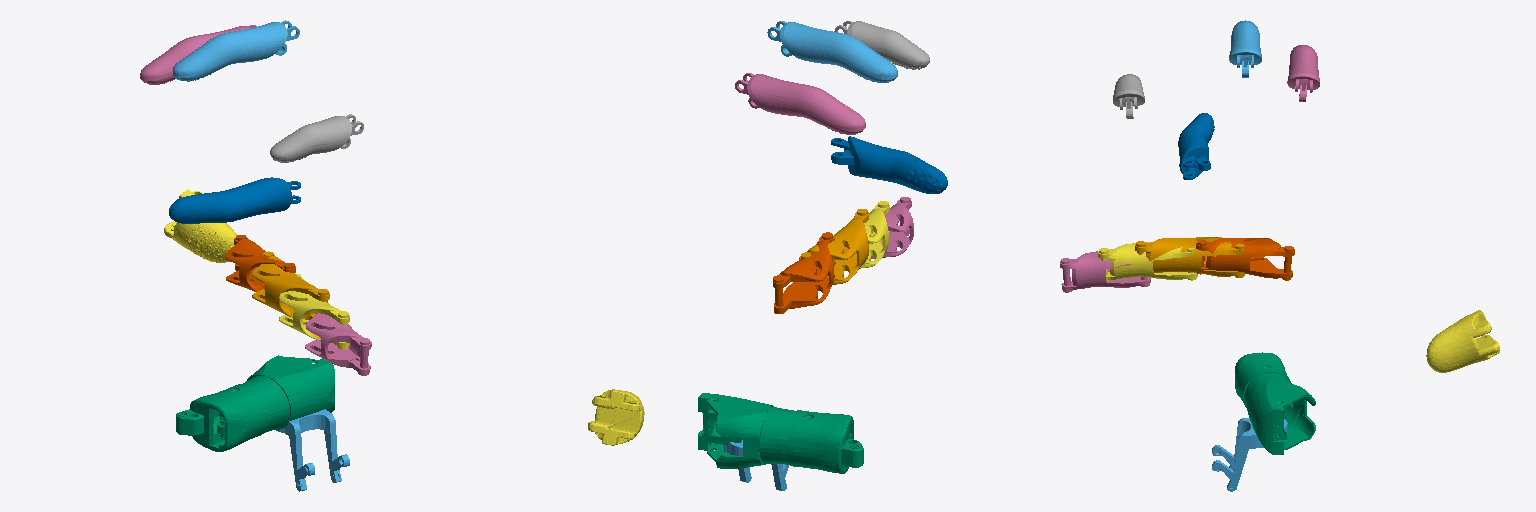
URDF robot description (RuiYan_Hand_Right_Mimic):
<?xml version="1.0" encoding="UTF-8"?>
<!-- Version: 3.0 -->
<robot name="RuiYan_Hand_Right_Mimic">
  <joint name="hand2_joint_link_1_1" type="revolute">
    <origin xyz="0.0135 0.022 0.0398" rpy="3.1415927 0. -1.5707927"/>
    <parent link="hand2_link_base"/>
    <child link="hand2_link_1_1"/>
    <axis xyz="0. 0. 1."/>
    <limit lower="0." upper="2.3559998" effort="340282346638528859811704183484516925440." velocity="5939047335254987724700441203225657344."/>
  </joint>
  <joint name="hand2_joint_link_1_2" type="revolute">
    <origin xyz="-0.0105 -0. -0.0107" rpy="-1.5707927 0. -3.1415925"/>
    <parent link="hand2_link_1_1"/>
    <child link="hand2_link_1_2"/>
    <axis xyz="0. 0. 1."/>
    <limit lower="0." upper="0.698" effort="340282346638528859811704183484516925440." velocity="5939047335254987724700441203225657344."/>
  </joint>
  <joint name="hand2_joint_link_1_3" type="revolute">
    <origin xyz="0.040457 0.011223 -0. " rpy="-0. 0. -0.0000001"/>
    <parent link="hand2_link_1_2"/>
    <child link="hand2_link_1_3"/>
    <axis xyz="0. 0. 1."/>
    <limit lower="0." upper="1.169" effort="340282346638528859811704183484516925440." velocity="5939047335254987724700441203225657344."/>
    <mimic joint="hand2_joint_link_1_2" multiplier="1.6749999523162842" offset="0.0" />
  </joint>
  <joint name="hand2_joint_link_1_4" type="fixed">
    <origin xyz="0.0289525 0.028477 0. " rpy="2.3561945 -1.5707911 2.3561945"/>
    <parent link="hand2_link_1_3"/>
    <child link="hand2_link_1_4"/>
  </joint>
  <joint name="hand2_joint_link_2_1" type="revolute">
    <origin xyz="-0.0035 0.029833 0.11095 " rpy="-3.1415923 1.4923 -1.5707922"/>
    <parent link="hand2_link_base"/>
    <child link="hand2_link_2_1"/>
    <axis xyz="0. 0. 1."/>
    <limit lower="0." upper="1.518" effort="340282346638528859811704183484516925440." velocity="5939047335254987724700441203225657344."/>
  </joint>
  <joint name="hand2_joint_link_2_2" type="revolute">
    <origin xyz="-0.0419 0.001 0. " rpy="0. 0. 0."/>
    <parent link="hand2_link_2_1"/>
    <child link="hand2_link_2_2"/>
    <axis xyz="0. 0. 1."/>
    <limit lower="0." upper="1.6229999" effort="340282346638528859811704183484516925440." velocity="5939047335254987724700441203225657344."/>
    <mimic joint="hand2_joint_link_2_1" multiplier="1.0" offset="0.0" />
  </joint>
  <joint name="hand2_joint_link_2_3" type="fixed">
    <origin xyz="-0.0416063 -0.0157651 0.0000874" rpy="1.6492926 0.0000036 -1.570796 "/>
    <parent link="hand2_link_2_2"/>
    <child link="hand2_link_2_3"/>
  </joint>
  <joint name="hand2_joint_link_3_1" type="revolute">
    <origin xyz="-0.0035 0.009945 0.112 " rpy="-3.1415923 1.5446 -1.5707922"/>
    <parent link="hand2_link_base"/>
    <child link="hand2_link_3_1"/>
    <axis xyz="0. 0. 1."/>
    <limit lower="0." upper="1.5709999" effort="340282346638528859811704183484516925440." velocity="5939047335254987724700441203225657344."/>
  </joint>
  <joint name="hand2_joint_link_3_2" type="revolute">
    <origin xyz="-0.0519 0.001 0. " rpy="0. 0. 0."/>
    <parent link="hand2_link_3_1"/>
    <child link="hand2_link_3_2"/>
    <axis xyz="0. 0. 1."/>
    <limit lower="0." upper="1.6409999" effort="340282346638528859811704183484516925440." velocity="5939047335254987724700441203225657344."/>
    <mimic joint="hand2_joint_link_3_1" multiplier="1.0" offset="0.0" />
  </joint>
  <joint name="hand2_joint_link_3_3" type="fixed">
    <origin xyz="-0.0426192 -0.015904 0.0000652" rpy="1.5969926 0.0000036 -1.5707963"/>
    <parent link="hand2_link_3_2"/>
    <child link="hand2_link_3_3"/>
  </joint>
  <joint name="hand2_joint_link_4_1" type="revolute">
    <origin xyz="-0.0035 -0.009945 0.11099 " rpy="-0.0000086 1.5446 1.5707914"/>
    <parent link="hand2_link_base"/>
    <child link="hand2_link_4_1"/>
    <axis xyz="0. 0. 1."/>
    <limit lower="0." upper="1.5709999" effort="340282346638528859811704183484516925440." velocity="5939047335254987724700441203225657344."/>
  </joint>
  <joint name="hand2_joint_link_4_2" type="revolute">
    <origin xyz="-0.0419 0.001 0. " rpy="0. 0. 0."/>
    <parent link="hand2_link_4_1"/>
    <child link="hand2_link_4_2"/>
    <axis xyz="0. 0. 1."/>
    <limit lower="0." upper="1.6579999" effort="340282346638528859811704183484516925440." velocity="5939047335254987724700441203225657344."/>
    <mimic joint="hand2_joint_link_4_1" multiplier="1.0" offset="0.0" />
  </joint>
  <joint name="hand2_joint_link_4_3" type="fixed">
    <origin xyz="-0.0437206 -0.0156348 0.0001176" rpy="1.5446 0.0000036 -1.5707963"/>
    <parent link="hand2_link_4_2"/>
    <child link="hand2_link_4_3"/>
  </joint>
  <joint name="hand2_joint_link_5_1" type="revolute">
    <origin xyz="-0.0035 -0.029624 0.10795 " rpy="-0.0000079 1.4923 1.5707921"/>
    <parent link="hand2_link_base"/>
    <child link="hand2_link_5_1"/>
    <axis xyz="0. 0. 1."/>
    <limit lower="0." upper="1.5449999" effort="340282346638528859811704183484516925440." velocity="5939047335254987724700441203225657344."/>
  </joint>
  <joint name="hand2_joint_link_5_2" type="revolute">
    <origin xyz="-0.0369 0.001 0. " rpy="0. 0. 0."/>
    <parent link="hand2_link_5_1"/>
    <child link="hand2_link_5_2"/>
    <axis xyz="0. 0. 1."/>
    <limit lower="0." upper="1.6579999" effort="340282346638528859811704183484516925440." velocity="5939047335254987724700441203225657344."/>
    <mimic joint="hand2_joint_link_5_1" multiplier="1.0" offset="0.0" />
  </joint>
  <joint name="hand2_joint_link_5_3" type="fixed">
    <origin xyz="-0.0404732 -0.0155 0.0003224" rpy="1.4923002 0.0000036 -1.570796 "/>
    <parent link="hand2_link_5_2"/>
    <child link="hand2_link_5_3"/>
  </joint>
  <joint name="hand2_root_joint" type="fixed">
    <origin xyz="0. 0. 0." rpy="0. 0. 0."/>
    <parent link="RuiYan_Hand_Right"/>
    <child link="hand2_link_base"/>
  </joint>
  <link name="RuiYan_Hand_Right"/>
  <link name="hand2_link_1_1">
    <inertial>
      <origin xyz="0. 0. 0." rpy="0. 0. 0."/>
      <mass value="0.0122865"/>
      <inertia ixx="0.001" ixy="0." ixz="0." iyy="0.001" iyz="0." izz="0.001"/>
    </inertial>
    <visual>
      <origin xyz="0. 0. 0." rpy="3.1415927 0. -3.1415925"/>
      <geometry>
        <mesh filename="meshes/hand2_link_1_1_visuals.obj" scale="1. 1. 1."/>
      </geometry>
    </visual>
    <collision>
      <origin xyz="0. 0. 0." rpy="3.1415927 0. -3.1415925"/>
      <geometry>
        <mesh filename="meshes/hand2_link_1_1_collisions.obj" scale="1. 1. 1."/>
      </geometry>
    </collision>
  </link>
  <link name="hand2_link_1_2">
    <inertial>
      <origin xyz="0. 0. 0." rpy="0. 0. 0."/>
      <mass value="0.0125498"/>
      <inertia ixx="0.001" ixy="0." ixz="0." iyy="0.001" iyz="0." izz="0.001"/>
    </inertial>
    <visual>
      <origin xyz="-0. 0. 0." rpy="-0. 0. -0.0000001"/>
      <geometry>
        <mesh filename="meshes/hand2_link_1_2_visuals.obj" scale="1. 1. 1."/>
      </geometry>
    </visual>
    <collision>
      <origin xyz="-0. 0. 0." rpy="-0. 0. -0.0000001"/>
      <geometry>
        <mesh filename="meshes/hand2_link_1_2_collisions.obj" scale="1. 1. 1."/>
      </geometry>
    </collision>
  </link>
  <link name="hand2_link_1_3">
    <inertial>
      <origin xyz="0. 0. 0." rpy="0. 0. 0."/>
      <mass value="0.0076685"/>
      <inertia ixx="0.001" ixy="0." ixz="0." iyy="0.001" iyz="0." izz="0.001"/>
    </inertial>
    <visual>
      <origin xyz="0.036284 0.0268 0. " rpy="2.7547064 1.5707927 3.1230462"/>
      <geometry>
        <mesh filename="meshes/hand2_link_1_3_visuals.obj" scale="1. 1. 1."/>
      </geometry>
    </visual>
    <collision>
      <origin xyz="0.036284 0.0268 0. " rpy="2.7547064 1.5707927 3.1230462"/>
      <geometry>
        <mesh filename="meshes/hand2_link_1_3_collisions.obj" scale="1. 1. 1."/>
      </geometry>
    </collision>
  </link>
  <link name="hand2_link_1_4">
    <visual>
      <origin xyz="0. 0. 0." rpy="-0. 0. 0."/>
      <geometry>
        <mesh filename="meshes/hand2_link_1_4_visuals.obj" scale="1. 1. 1."/>
      </geometry>
    </visual>
    <collision>
      <origin xyz="0. 0. 0." rpy="-0. 0. 0."/>
      <geometry>
        <mesh filename="meshes/hand2_link_1_4_collisions.obj" scale="1. 1. 1."/>
      </geometry>
    </collision>
  </link>
  <link name="hand2_link_2_1">
    <inertial>
      <origin xyz="0. 0. 0." rpy="0. 0. 0."/>
      <mass value="0.0100639"/>
      <inertia ixx="0.001" ixy="0." ixz="0." iyy="0.001" iyz="0." izz="0.001"/>
    </inertial>
    <visual>
      <origin xyz="0. 0. 0." rpy="3.1415925 -0. -3.1415925"/>
      <geometry>
        <mesh filename="meshes/hand2_link_2_1_visuals.obj" scale="1. 1. 1."/>
      </geometry>
    </visual>
    <collision>
      <origin xyz="0. 0. 0." rpy="3.1415925 -0. -3.1415925"/>
      <geometry>
        <mesh filename="meshes/hand2_link_2_1_collisions.obj" scale="1. 1. 1."/>
      </geometry>
    </collision>
  </link>
  <link name="hand2_link_2_2">
    <inertial>
      <origin xyz="0. 0. 0." rpy="0. 0. 0."/>
      <mass value="0.0035861"/>
      <inertia ixx="0.001" ixy="0." ixz="0." iyy="0.001" iyz="0." izz="0.001"/>
    </inertial>
    <visual>
      <origin xyz="-0.043692 -0.011217 -0. " rpy="1.5707649 -1.5694997 -1.5872649"/>
      <geometry>
        <mesh filename="meshes/hand2_link_2_2_visuals.obj" scale="1. 1. 1."/>
      </geometry>
    </visual>
    <collision>
      <origin xyz="-0.043692 -0.011217 -0. " rpy="1.5707649 -1.5694997 -1.5872649"/>
      <geometry>
        <mesh filename="meshes/hand2_link_2_2_collisions.obj" scale="1. 1. 1."/>
      </geometry>
    </collision>
  </link>
  <link name="hand2_link_2_3">
    <visual>
      <origin xyz="-0. 0. -0." rpy="0. 0. -0."/>
      <geometry>
        <mesh filename="meshes/hand2_link_2_3_visuals.obj" scale="1. 1. 1."/>
      </geometry>
    </visual>
    <collision>
      <origin xyz="-0. 0. -0." rpy="0. 0. -0."/>
      <geometry>
        <mesh filename="meshes/hand2_link_2_3_collisions.obj" scale="1. 1. 1."/>
      </geometry>
    </collision>
  </link>
  <link name="hand2_link_3_1">
    <inertial>
      <origin xyz="0. 0. 0." rpy="0. 0. 0."/>
      <mass value="0.0082987"/>
      <inertia ixx="0.001" ixy="0." ixz="0." iyy="0.001" iyz="0." izz="0.001"/>
    </inertial>
    <visual>
      <origin xyz="0. 0. 0." rpy="3.1415927 -0. -3.1415927"/>
      <geometry>
        <mesh filename="meshes/hand2_link_3_1_visuals.obj" scale="1. 1. 1."/>
      </geometry>
    </visual>
    <collision>
      <origin xyz="0. 0. 0." rpy="3.1415927 -0. -3.1415927"/>
      <geometry>
        <mesh filename="meshes/hand2_link_3_1_collisions.obj" scale="1. 1. 1."/>
      </geometry>
    </collision>
  </link>
  <link name="hand2_link_3_2">
    <inertial>
      <origin xyz="0. 0. 0." rpy="0. 0. 0."/>
      <mass value="0.003586"/>
      <inertia ixx="0.001" ixy="0." ixz="0." iyy="0.001" iyz="0." izz="0.001"/>
    </inertial>
    <visual>
      <origin xyz="-0.043641 -0.01141 -0. " rpy="1.570527 -1.5704999 -1.582627 "/>
      <geometry>
        <mesh filename="meshes/hand2_link_3_2_visuals.obj" scale="1. 1. 1."/>
      </geometry>
    </visual>
    <collision>
      <origin xyz="-0.043641 -0.01141 -0. " rpy="1.570527 -1.5704999 -1.582627 "/>
      <geometry>
        <mesh filename="meshes/hand2_link_3_2_collisions.obj" scale="1. 1. 1."/>
      </geometry>
    </collision>
  </link>
  <link name="hand2_link_3_3">
    <visual>
      <origin xyz="0. 0. 0." rpy="0. 0. 0."/>
      <geometry>
        <mesh filename="meshes/hand2_link_3_3_visuals.obj" scale="1. 1. 1."/>
      </geometry>
    </visual>
    <collision>
      <origin xyz="0. 0. 0." rpy="0. 0. 0."/>
      <geometry>
        <mesh filename="meshes/hand2_link_3_3_collisions.obj" scale="1. 1. 1."/>
      </geometry>
    </collision>
  </link>
  <link name="hand2_link_4_1">
    <inertial>
      <origin xyz="0. 0. 0." rpy="0. 0. 0."/>
      <mass value="0.0100639"/>
      <inertia ixx="0.001" ixy="0." ixz="0." iyy="0.001" iyz="0." izz="0.001"/>
    </inertial>
    <visual>
      <origin xyz="0. 0. 0." rpy="3.1415927 -0. -3.1415927"/>
      <geometry>
        <mesh filename="meshes/hand2_link_4_1_visuals.obj" scale="1. 1. 1."/>
      </geometry>
    </visual>
    <collision>
      <origin xyz="0. 0. 0." rpy="3.1415927 -0. -3.1415927"/>
      <geometry>
        <mesh filename="meshes/hand2_link_4_1_collisions.obj" scale="1. 1. 1."/>
      </geometry>
    </collision>
  </link>
  <link name="hand2_link_4_2">
    <inertial>
      <origin xyz="0. 0. 0." rpy="0. 0. 0."/>
      <mass value="0.0035859"/>
      <inertia ixx="0.001" ixy="0." ixz="0." iyy="0.001" iyz="0." izz="0.001"/>
    </inertial>
    <visual>
      <origin xyz="-0. -0. -0." rpy="-3.1415927 0. 3.1415927"/>
      <geometry>
        <mesh filename="meshes/hand2_link_4_2_visuals.obj" scale="1. 1. 1."/>
      </geometry>
    </visual>
    <collision>
      <origin xyz="-0. -0. -0." rpy="-3.1415927 0. 3.1415927"/>
      <geometry>
        <mesh filename="meshes/hand2_link_4_2_collisions.obj" scale="1. 1. 1."/>
      </geometry>
    </collision>
  </link>
  <link name="hand2_link_4_3">
    <visual>
      <origin xyz="0. 0. 0." rpy="0. 0. 0."/>
      <geometry>
        <mesh filename="meshes/hand2_link_4_3_visuals.obj" scale="1. 1. 1."/>
      </geometry>
    </visual>
    <collision>
      <origin xyz="0. 0. 0." rpy="0. 0. 0."/>
      <geometry>
        <mesh filename="meshes/hand2_link_4_3_collisions.obj" scale="1. 1. 1."/>
      </geometry>
    </collision>
  </link>
  <link name="hand2_link_5_1">
    <inertial>
      <origin xyz="0. 0. 0." rpy="0. 0. 0."/>
      <mass value="0.0087057"/>
      <inertia ixx="0.001" ixy="0." ixz="0." iyy="0.001" iyz="0." izz="0.001"/>
    </inertial>
    <visual>
      <origin xyz="0. 0. 0." rpy="3.1415927 -0. -3.1415927"/>
      <geometry>
        <mesh filename="meshes/hand2_link_5_1_visuals.obj" scale="1. 1. 1."/>
      </geometry>
    </visual>
    <collision>
      <origin xyz="0. 0. 0." rpy="3.1415927 -0. -3.1415927"/>
      <geometry>
        <mesh filename="meshes/hand2_link_5_1_collisions.obj" scale="1. 1. 1."/>
      </geometry>
    </collision>
  </link>
  <link name="hand2_link_5_2">
    <inertial>
      <origin xyz="0. 0. 0." rpy="0. 0. 0."/>
      <mass value="0.0035859"/>
      <inertia ixx="0.001" ixy="0." ixz="0." iyy="0.001" iyz="0." izz="0.001"/>
    </inertial>
    <visual>
      <origin xyz="-0.043691 -0.011217 0. " rpy="-1.570798 -1.5695001 1.554298 "/>
      <geometry>
        <mesh filename="meshes/hand2_link_5_2_visuals.obj" scale="1. 1. 1."/>
      </geometry>
    </visual>
    <collision>
      <origin xyz="-0.043691 -0.011217 0. " rpy="-1.570798 -1.5695001 1.554298 "/>
      <geometry>
        <mesh filename="meshes/hand2_link_5_2_collisions.obj" scale="1. 1. 1."/>
      </geometry>
    </collision>
  </link>
  <link name="hand2_link_5_3">
    <visual>
      <origin xyz="0. -0. -0." rpy="-0.0000001 0. -0. "/>
      <geometry>
        <mesh filename="meshes/hand2_link_5_3_visuals.obj" scale="1. 1. 1."/>
      </geometry>
    </visual>
    <collision>
      <origin xyz="0. -0. -0." rpy="-0.0000001 0. -0. "/>
      <geometry>
        <mesh filename="meshes/hand2_link_5_3_collisions.obj" scale="1. 1. 1."/>
      </geometry>
    </collision>
  </link>
  <link name="hand2_link_base">
    <inertial>
      <origin xyz="0. 0. 0." rpy="0. 0. 0."/>
      <mass value="0.2115691"/>
      <inertia ixx="0.001" ixy="0." ixz="0." iyy="0.001" iyz="0." izz="0.001"/>
    </inertial>
    <visual>
      <origin xyz="0. 0. 0." rpy="0. 0. 0."/>
      <geometry>
        <mesh filename="meshes/hand2_link_base_visuals.obj" scale="1. 1. 1."/>
      </geometry>
    </visual>
    <collision>
      <origin xyz="0. 0. 0." rpy="0. 0. 0."/>
      <geometry>
        <mesh filename="meshes/hand2_link_base_collisions.obj" scale="1. 1. 1."/>
      </geometry>
    </collision>
  </link>
</robot>

--- Render facts (derived) ---
The picture shows the robot from 3 angles, left to right: view 1: azimuth 30°, elevation 25°; view 2: azimuth 150°, elevation 25°; view 3: azimuth 270°, elevation 25°; orthographic projection.
Robot: RuiYan_Hand_Right_Mimic — 18 links, 17 joints (11 revolute, 6 fixed); root link RuiYan_Hand_Right; default pose: every joint at zero.
Visible links, largest first — view 1: hand2_link_1_2, hand2_link_4_2, hand2_link_3_2, hand2_link_5_2, hand2_link_5_1, hand2_link_1_1, hand2_link_1_3, hand2_link_3_1, hand2_link_2_1, hand2_link_4_1, hand2_link_2_2; view 2: hand2_link_1_2, hand2_link_2_2, hand2_link_3_2, hand2_link_4_2, hand2_link_2_1, hand2_link_1_3, hand2_link_5_2, hand2_link_3_1, hand2_link_5_1, hand2_link_4_1, hand2_link_1_1; view 3: hand2_link_1_2, hand2_link_1_3, hand2_link_2_1, hand2_link_3_1, hand2_link_4_1, hand2_link_5_1, hand2_link_4_2, hand2_link_1_1, hand2_link_2_2, hand2_link_3_2, hand2_link_5_2.
Boxes of the visible links, bbox=[...] form: hand2_link_1_2: bbox=[176, 355, 334, 451]; hand2_link_4_2: bbox=[169, 177, 300, 223]; hand2_link_3_2: bbox=[173, 20, 299, 81]; hand2_link_5_2: bbox=[270, 114, 363, 162]; hand2_link_5_1: bbox=[305, 313, 371, 375]; hand2_link_1_1: bbox=[276, 409, 349, 491]; hand2_link_1_3: bbox=[164, 189, 236, 262]; hand2_link_3_1: bbox=[252, 251, 329, 319]; hand2_link_2_1: bbox=[225, 235, 295, 291]; hand2_link_4_1: bbox=[279, 274, 349, 349]; hand2_link_2_2: bbox=[140, 25, 256, 84]; hand2_link_1_2: bbox=[698, 393, 863, 473]; hand2_link_2_2: bbox=[735, 73, 865, 134]; hand2_link_3_2: bbox=[767, 21, 897, 82]; hand2_link_4_2: bbox=[831, 136, 947, 193]; hand2_link_2_1: bbox=[773, 232, 835, 313]; hand2_link_1_3: bbox=[588, 389, 644, 445]; hand2_link_5_2: bbox=[834, 21, 929, 69]; hand2_link_3_1: bbox=[799, 209, 868, 284]; hand2_link_5_1: bbox=[871, 197, 913, 258]; hand2_link_4_1: bbox=[833, 201, 889, 268]; hand2_link_1_1: bbox=[724, 440, 788, 490]; hand2_link_1_2: bbox=[1235, 352, 1315, 454]; hand2_link_1_3: bbox=[1426, 310, 1499, 372]; hand2_link_2_1: bbox=[1196, 238, 1294, 280]; hand2_link_3_1: bbox=[1135, 237, 1244, 277]; hand2_link_4_1: bbox=[1098, 242, 1197, 281]; hand2_link_5_1: bbox=[1060, 251, 1150, 292]; hand2_link_4_2: bbox=[1178, 113, 1214, 179]; hand2_link_1_1: bbox=[1212, 418, 1287, 491]; hand2_link_2_2: bbox=[1287, 45, 1319, 101]; hand2_link_3_2: bbox=[1229, 20, 1261, 77]; hand2_link_5_2: bbox=[1113, 74, 1144, 118].
Size in the robot's own frame: 0.0862 by 0.1819 by 0.1917 metres.
Meshes: 17 distinct files referenced, 11 mesh visuals loaded (11 OBJ); not drawn: 6 (reference not matched to a file when rendering).
